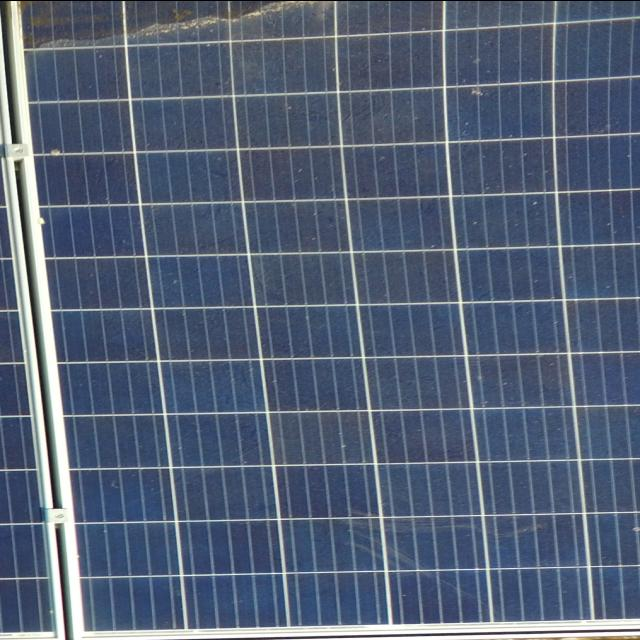Dust: (16, 0, 328, 60)
